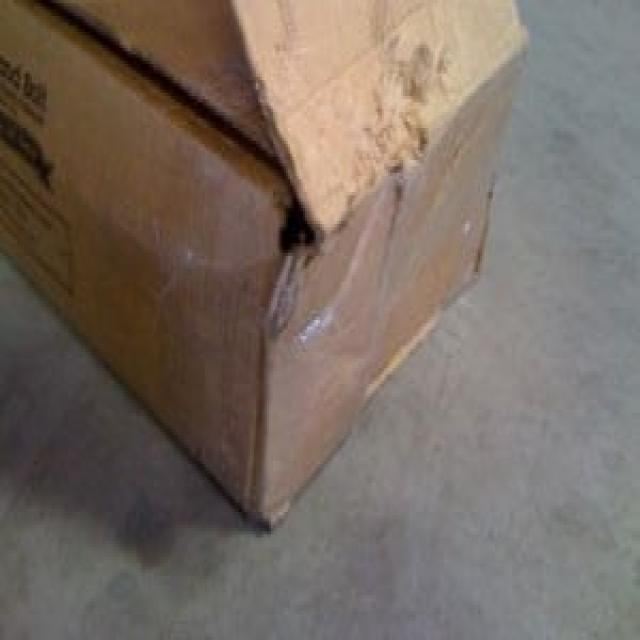Kardus kondisi rusak: (1, 1, 529, 533)
